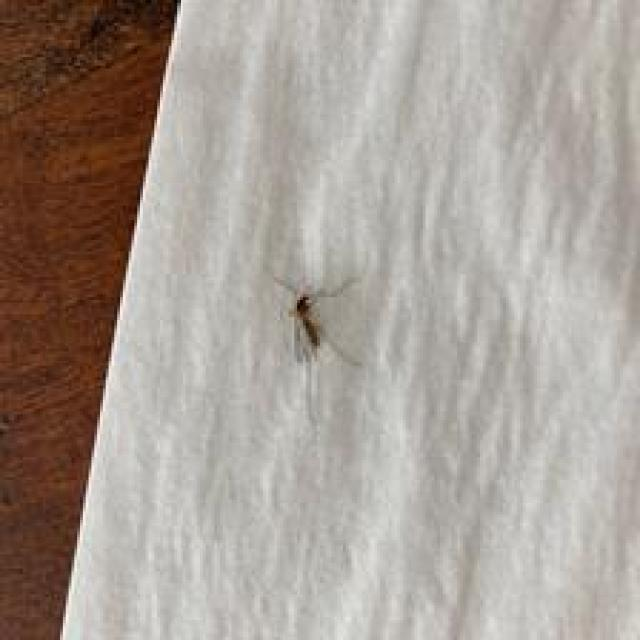Culex: (271, 273, 360, 367)
